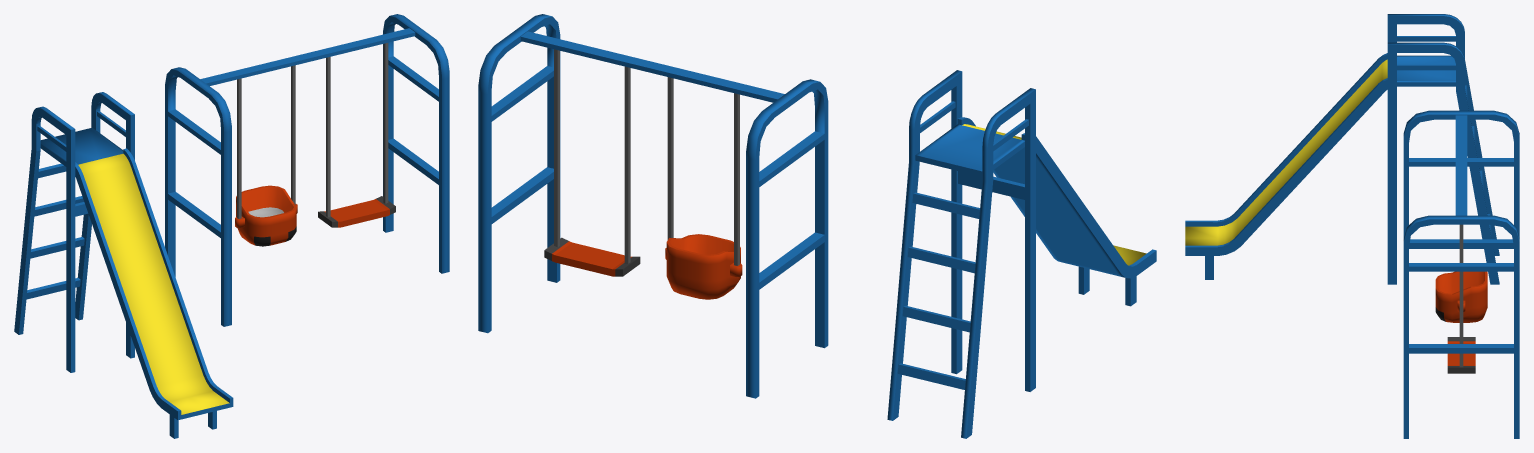
3 renders of one model, left to right at view 1: azimuth 30°, elevation 25°; view 2: azimuth 150°, elevation 25°; view 3: azimuth 270°, elevation 25°, orthographic. The views are drawn at different scales.
Visible parts, largest first — view 1: Slide, Swing Body A, Swing Infant, Swing 1; view 2: Slide, Swing Body A, Swing Infant, Swing 1; view 3: Slide, Swing Body A, Swing Infant, Swing 1.
Boxes of the visible parts, box(x1,y1,x2,y2) form: Slide: box(14, 92, 233, 438); Swing Body A: box(165, 14, 449, 326); Swing Infant: box(235, 65, 297, 246); Swing 1: box(318, 43, 395, 227); Slide: box(887, 70, 1156, 438); Swing Body A: box(478, 14, 828, 398); Swing Infant: box(665, 77, 742, 299); Swing 1: box(544, 49, 640, 276); Slide: box(1185, 14, 1499, 284); Swing Body A: box(1403, 110, 1519, 438); Swing Infant: box(1435, 271, 1487, 322); Swing 1: box(1447, 224, 1475, 373).
Size of the model in its own units: 6.4 by 3.85 by 4.85.
Materials: 1 (1 with a texture image).
